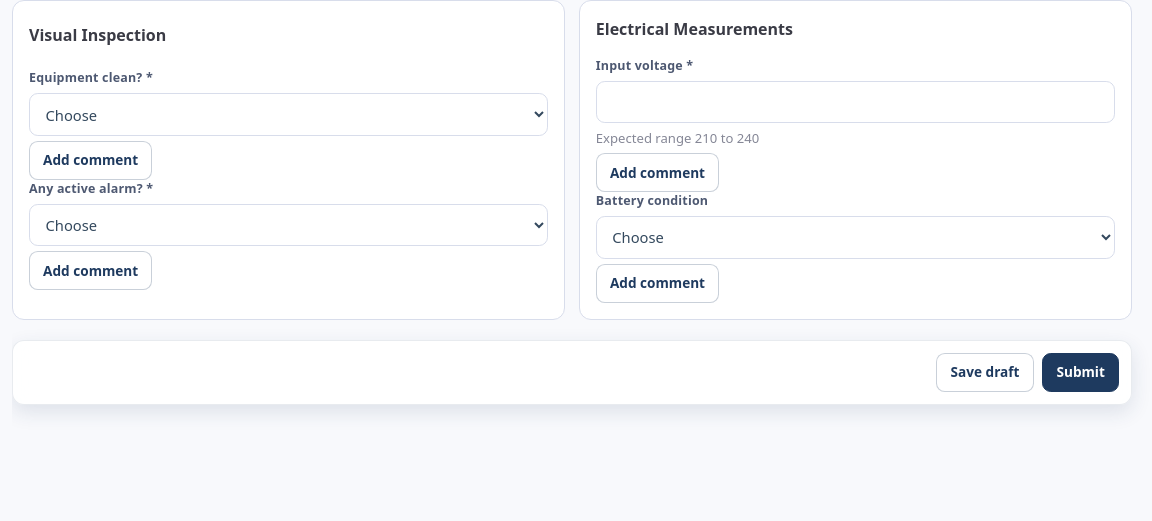
Scenario: PreventiveExecutionForm › should block submit when required answers are missing
Click the button "Submit".
click(1081, 372)  # box [1042, 353, 1119, 392]
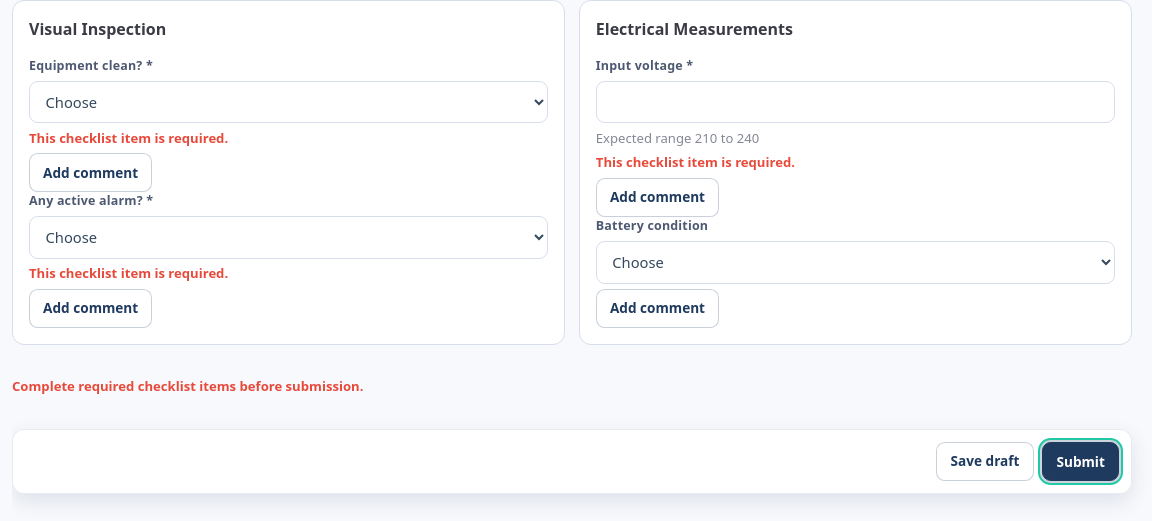
expect the text "This checklist item is required." is shown 3 times: met, box [29, 128, 228, 146]; [29, 264, 228, 282]; [596, 153, 795, 171]
